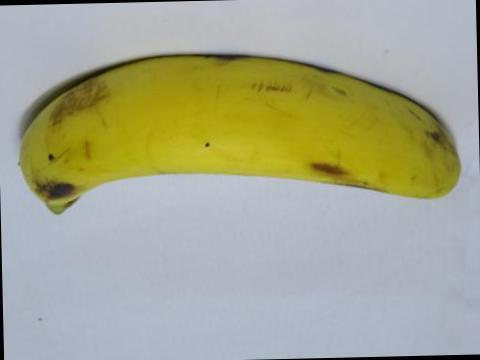freshripe: (7, 29, 479, 235)
